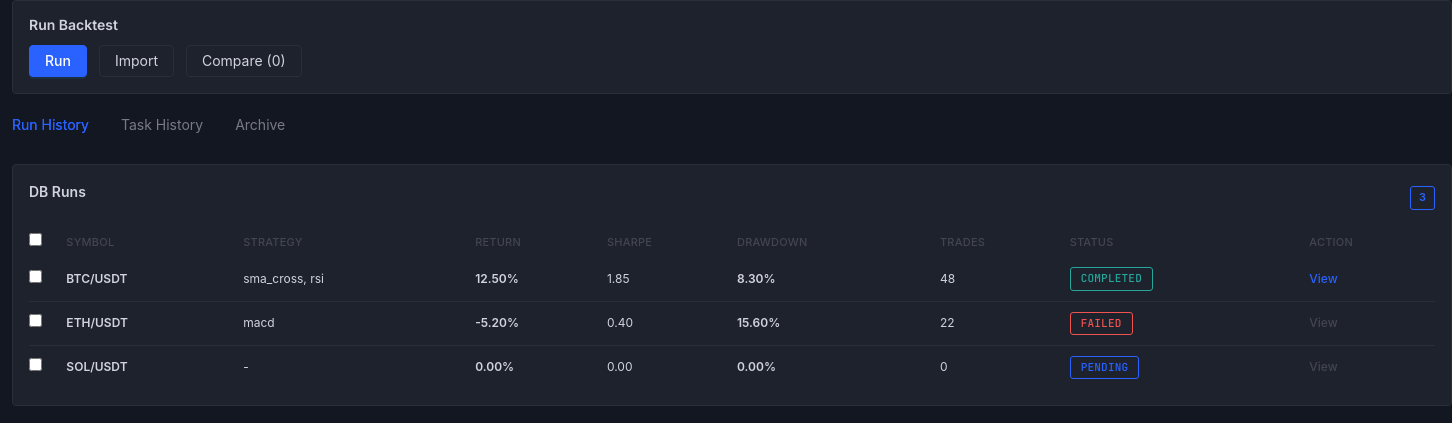
BacktestView › toggles a run checkbox to deselect it
This screenshot has width=1452, height=423.
Click the checkbox next to "BTC/USDT" at (36, 276), box [29,270,42,283]
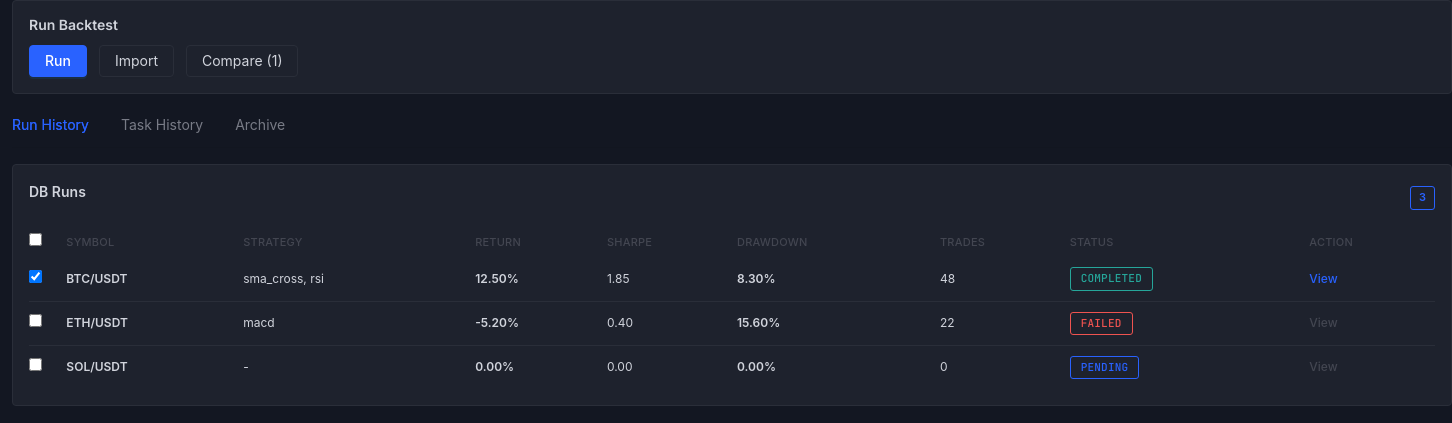
Click the checkbox next to "BTC/USDT" at (36, 276), box [29,270,42,283]
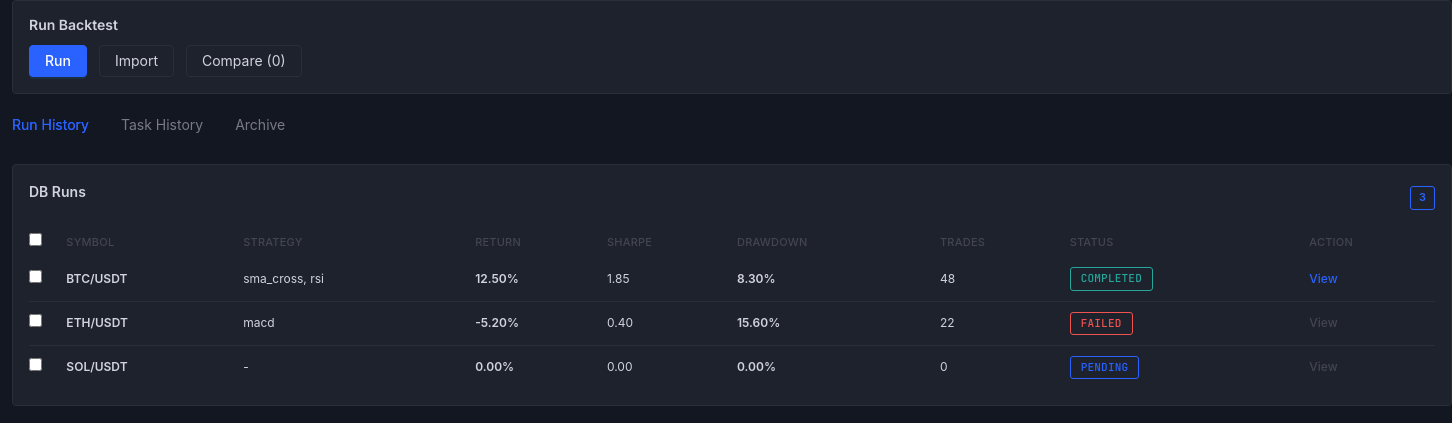
Expected: the button "Compare (0)" is shown, [186,45,302,77]
